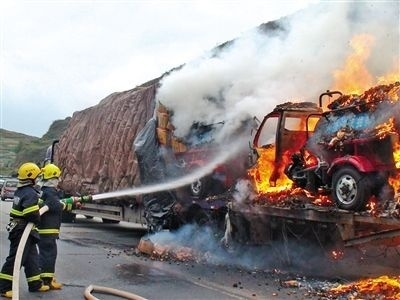fire: (253, 28, 400, 218)
